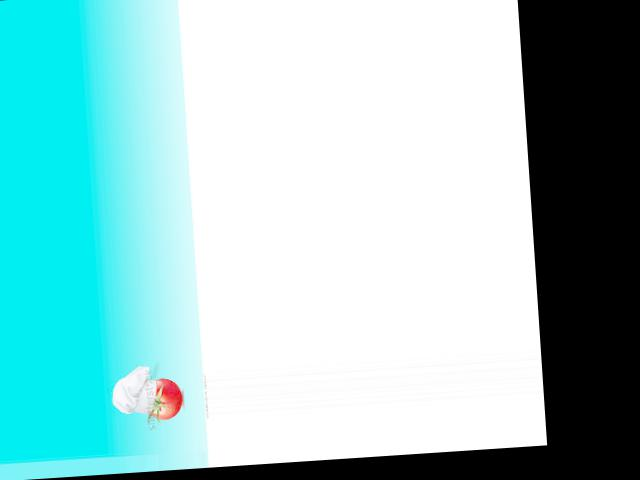tomato: (146, 377, 182, 419)
